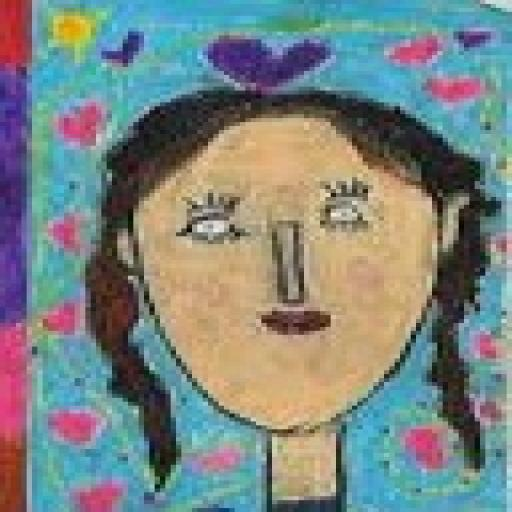person: (80, 84, 506, 508)
